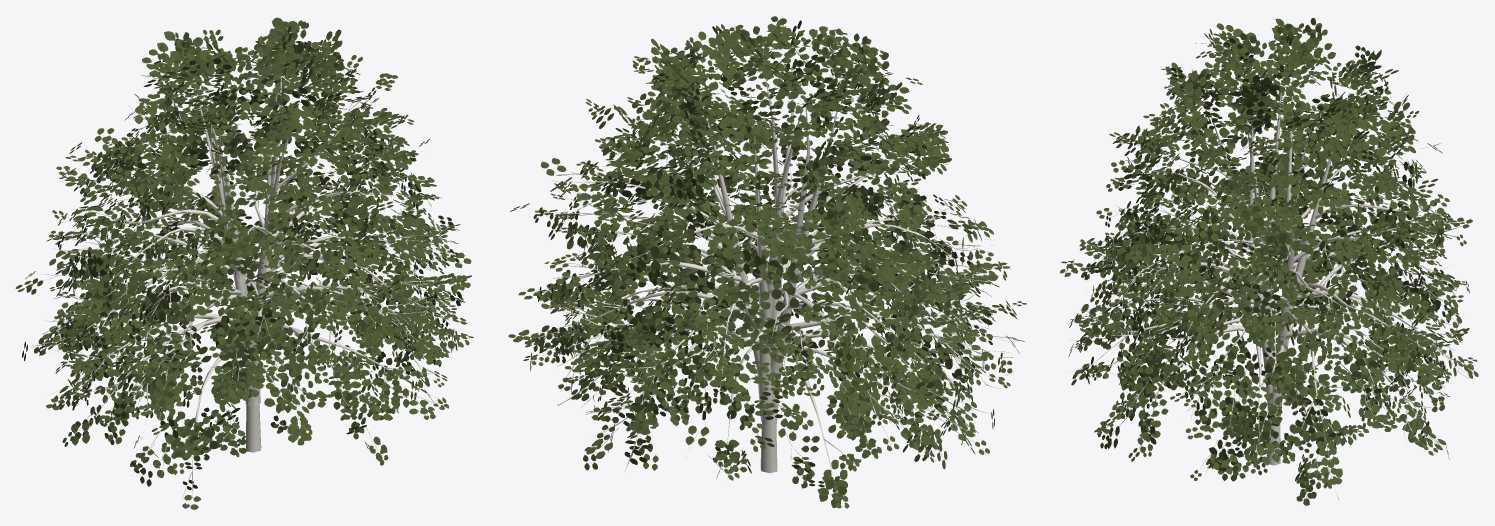
3 renders of one model, left to right at view 1: azimuth 30°, elevation 25°; view 2: azimuth 150°, elevation 25°; view 3: azimuth 270°, elevation 25°, orthographic. The views are drawn at different scales.
Visible parts, largest first — view 1: NT_MH_0006; view 2: NT_MH_0006; view 3: NT_MH_0006.
Boxes of the visible parts, x1,y1,x2,y2 form: NT_MH_0006: [15, 17, 473, 509]; NT_MH_0006: [508, 16, 1026, 508]; NT_MH_0006: [1060, 18, 1478, 511].
Bounding box in the file's own units: 26.77 × 25.09 × 23.17.
Materials: 2 (1 with a texture image).
